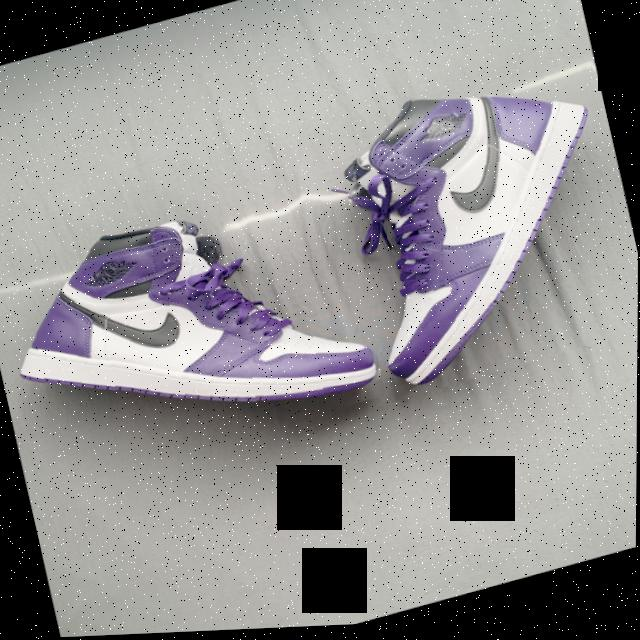shoe: (0, 160, 397, 497), (306, 39, 640, 412)
